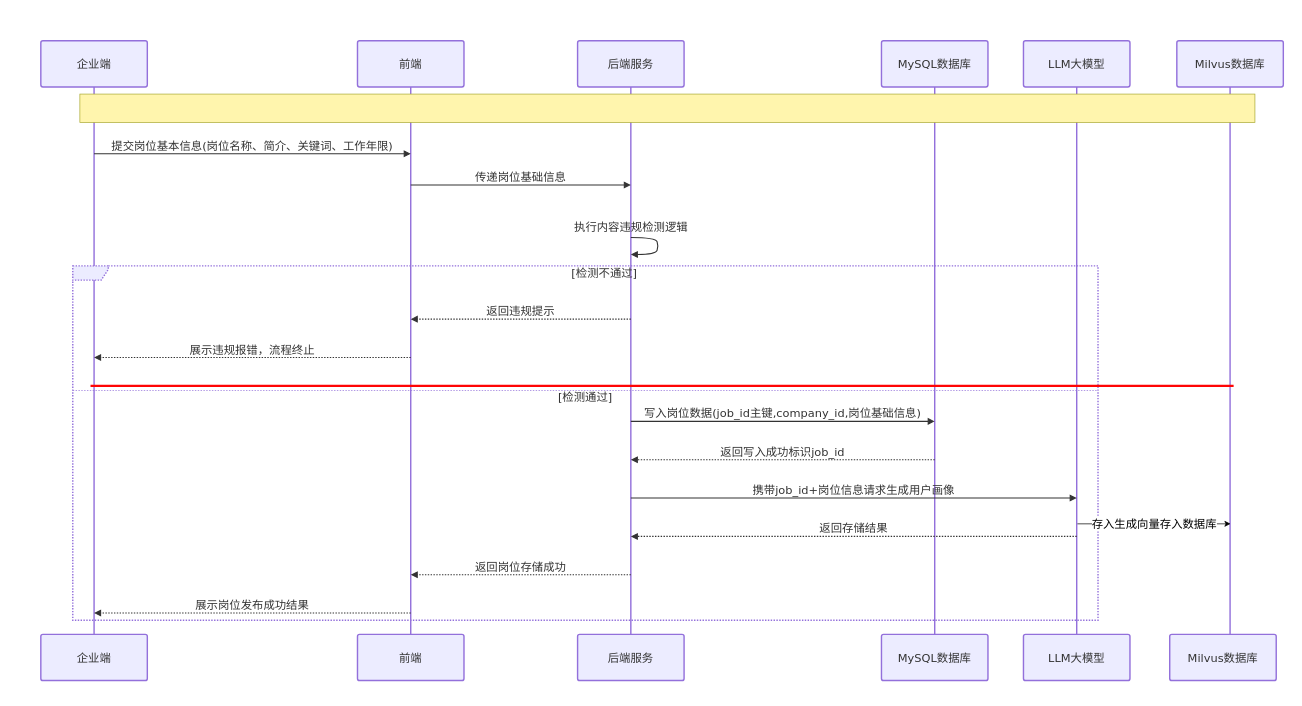
Some shapes in this 1302 by 706 pixel diagram are drawn without their labels. The centre of each missing label's shape, as x and y in pixels:
alt: (585,443)
岗位发布&画像生成全流程: (667,107)
